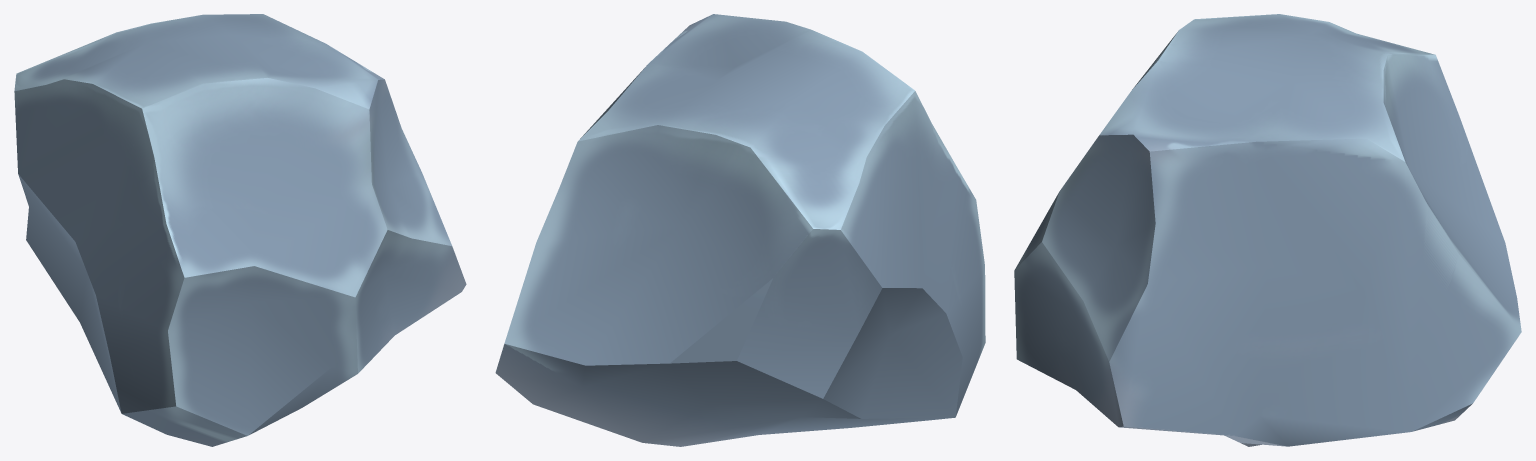
The model's file is Rock2.fbx.
The picture shows the model from 3 angles, left to right: view 1: azimuth 30°, elevation 25°; view 2: azimuth 150°, elevation 25°; view 3: azimuth 270°, elevation 25°; orthographic projection. The views are drawn at different scales.
Parts seen in each view (by area): view 1: Cube; view 2: Cube; view 3: Cube.
Boxes of the visible parts, left/top/right/bottom form: Cube: left=14, top=14, right=466, bottom=446; Cube: left=495, top=14, right=985, bottom=446; Cube: left=1014, top=14, right=1521, bottom=446.
Bounding box in the file's own units: 171 × 163 × 199.
